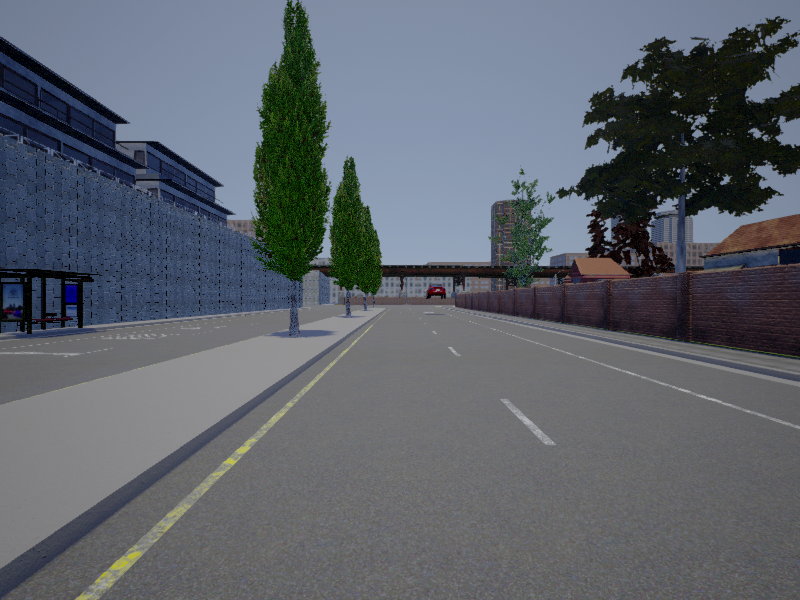Attacker: (426, 284, 449, 299)
